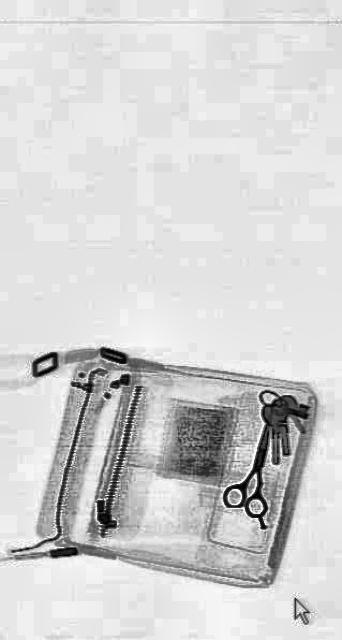Scissors: (222, 408, 284, 532)
